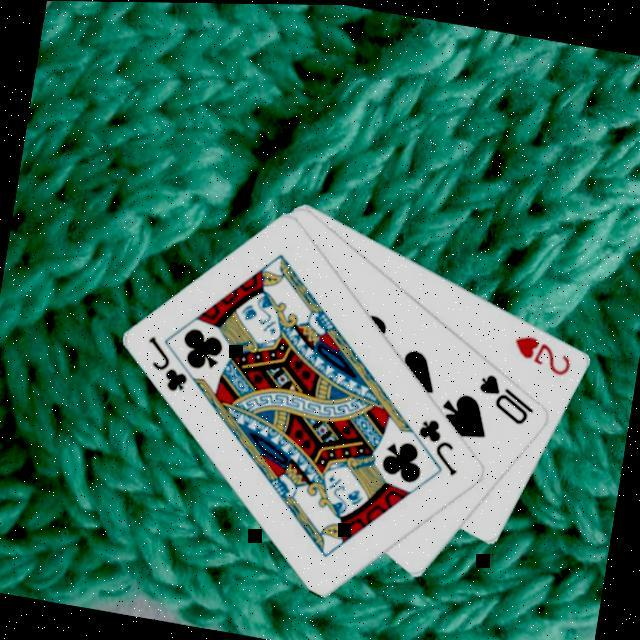10S: (470, 366, 541, 428)
2H: (506, 326, 576, 378)
JC: (136, 329, 197, 396), (409, 410, 468, 478)
